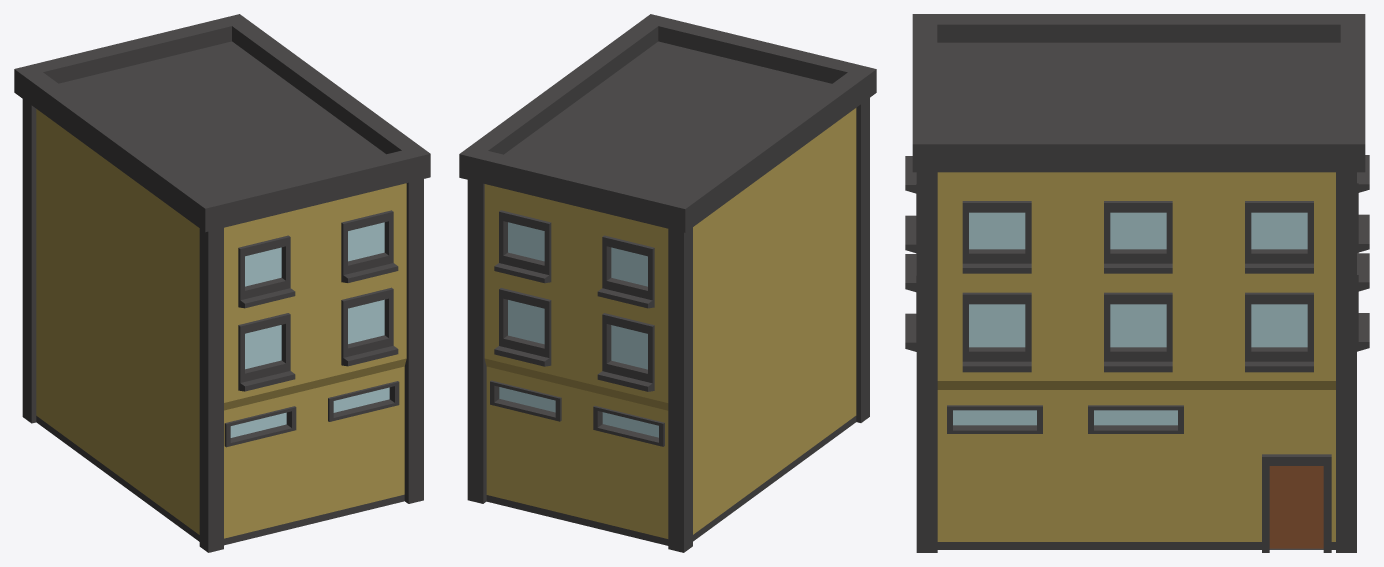
Rendered from house_wide_short001.fbx.
3 views of the same model, side by side, from view 1: azimuth 30°, elevation 25°; view 2: azimuth 150°, elevation 25°; view 3: azimuth 270°, elevation 25° (orthographic). The views are drawn at different scales.
Parts seen in each view (by area): view 1: Base.113; view 2: Base.113; view 3: Base.113.
Part boxes in pixels (box(x1,y1,x2,y2)): Base.113: box(14, 14, 430, 552); Base.113: box(459, 14, 876, 552); Base.113: box(905, 14, 1369, 552).
Bounding box in the file's own units: 895 × 1285 × 1315.
